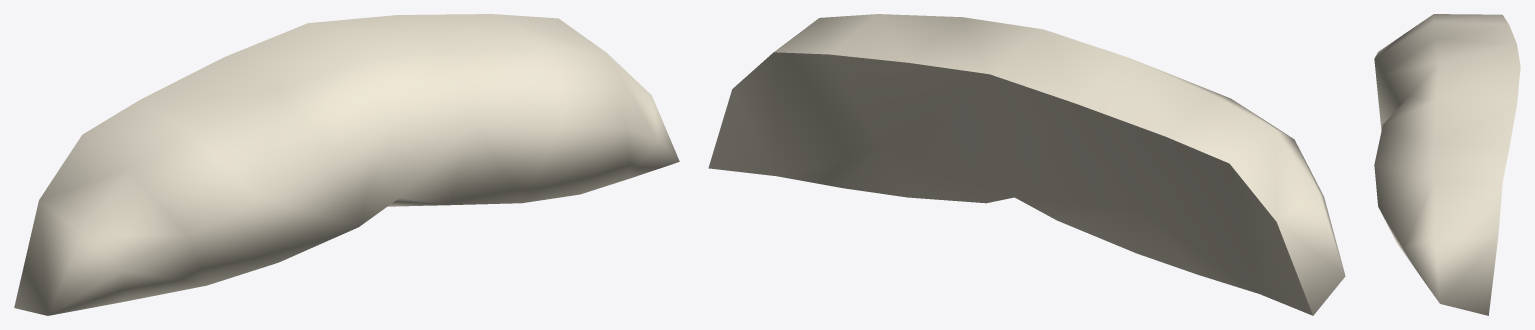
Rendered from Mustache_12.fbx.
3 renders of one model, left to right at view 1: azimuth 30°, elevation 25°; view 2: azimuth 150°, elevation 25°; view 3: azimuth 270°, elevation 25°, orthographic. The views are drawn at different scales.
Visible parts, largest first — view 1: Mustache_12; view 2: Mustache_12; view 3: Mustache_12.
Part boxes in pixels (x1,y1,x2,y2): Mustache_12: (14,14,679,315); Mustache_12: (708,14,1345,315); Mustache_12: (1374,14,1520,315).
Size of the model in its own units: 26.47 by 7.9 by 7.36.
